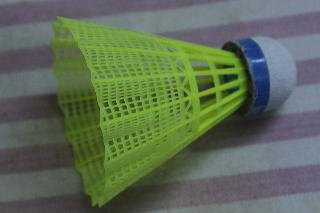shuttlecock: (49, 16, 294, 205)
